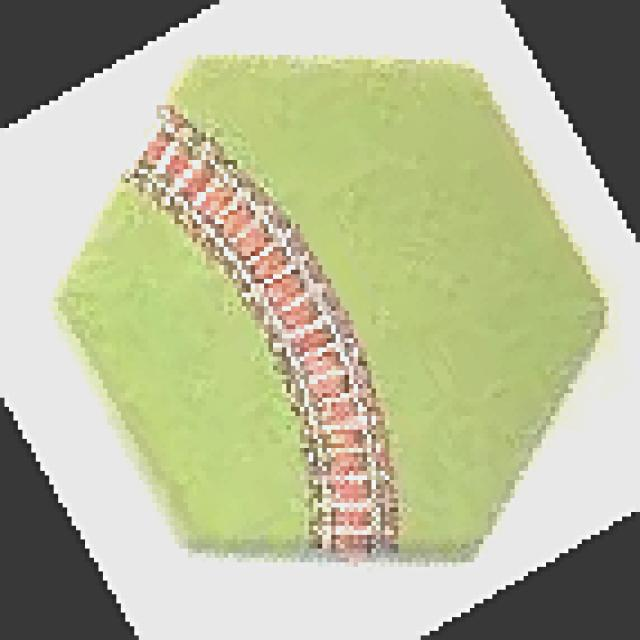2_5: (48, 48, 610, 566)
